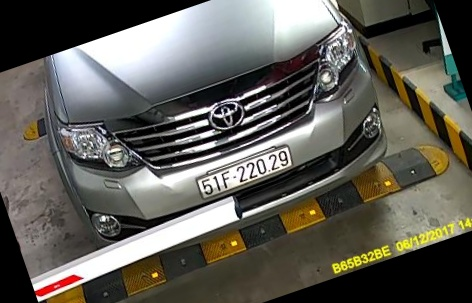plate: (197, 141, 293, 196)
